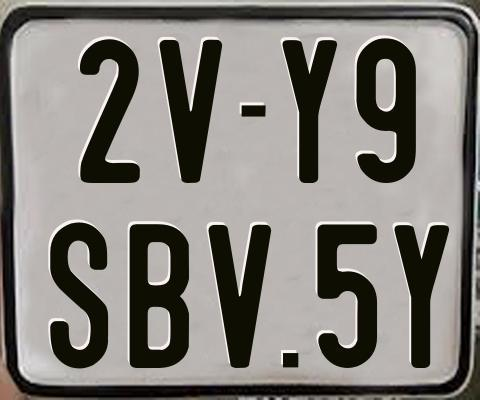2: (77, 37, 140, 185)
5: (316, 221, 378, 367)
9: (354, 37, 416, 188)
B: (127, 223, 187, 367)
S: (47, 219, 109, 369)
V: (209, 224, 277, 367), (159, 39, 225, 185)
Y: (391, 222, 450, 371), (280, 38, 335, 187)
